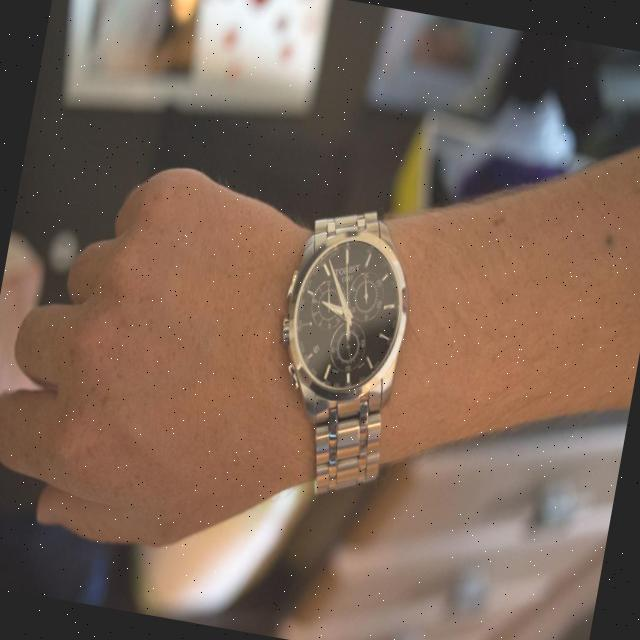Wrist watch: (253, 196, 424, 506)
